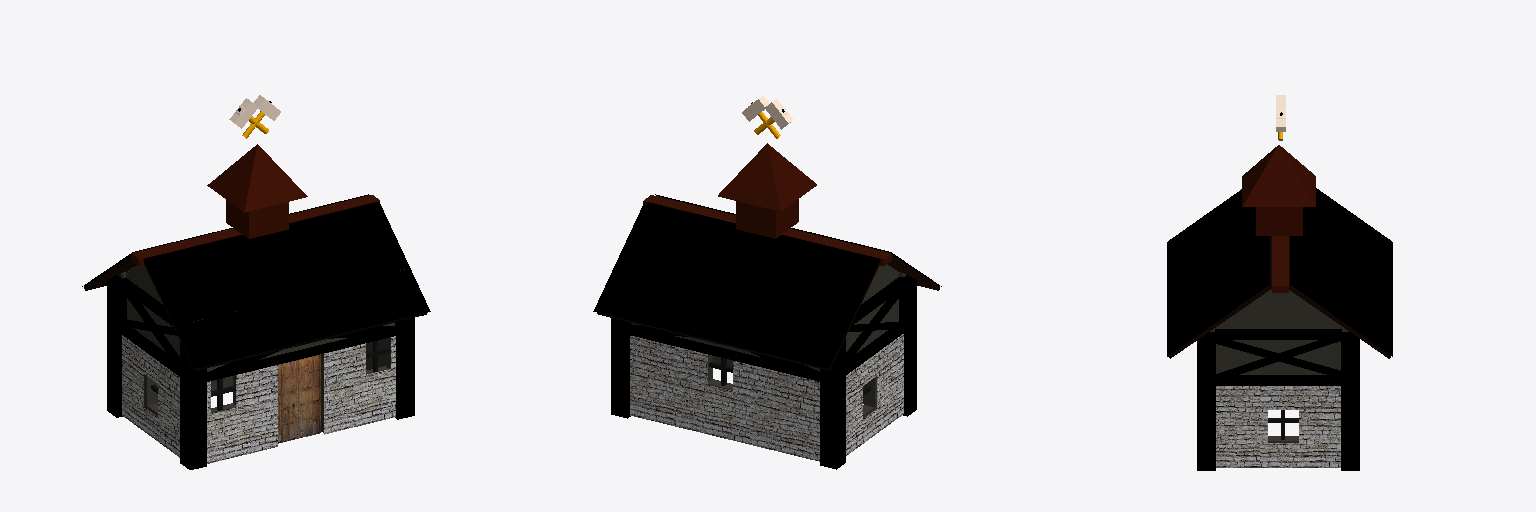
3 renders of one model, left to right at view 1: azimuth 30°, elevation 25°; view 2: azimuth 150°, elevation 25°; view 3: azimuth 270°, elevation 25°, orthographic.
Parts seen in each view (by area): view 1: polySurface15 polySurface23, pCube33, pPlane9, pPlane8, pPlane20, polySurface19, pCube22, pCube29, pPlane16, pCube24, pPlane15, pCube21 (+3 smaller); view 2: polySurface15 polySurface24, pCube33, pPlane11, pPlane13, pPlane12, pCube24, pCube29, pPlane16, polySurface19, pCube22, pPlane15, pCube23 (+3 smaller); view 3: polySurface15 polySurface24, polySurface15 polySurface23, pPlane19, polySurface19, pCube33, pCube23, pCube21, pCube30 polySurface37, polySurface36 pCube30, pCube30 polySurface39, pCube30 polySurface38, polySurface15 polySurface22 (+1 smaller).
Boxes of the visible parts, x1,y1,x2,y2 form: polySurface15 polySurface23: [143, 202, 430, 368]; pCube33: [131, 144, 379, 265]; pPlane9: [324, 336, 395, 434]; pPlane8: [207, 365, 277, 463]; pPlane20: [278, 354, 320, 443]; polySurface19: [119, 265, 404, 432]; pCube22: [180, 341, 206, 469]; pCube29: [112, 275, 179, 376]; pPlane16: [145, 353, 179, 457]; pCube24: [107, 279, 126, 417]; pPlane15: [122, 335, 158, 441]; pCube21: [395, 318, 414, 419]; polySurface15 polySurface24: [593, 202, 880, 368]; pCube33: [643, 143, 891, 265]; pPlane11: [750, 365, 819, 461]; pPlane13: [674, 346, 757, 444]; pPlane12: [630, 336, 701, 430]; pCube24: [820, 338, 845, 469]; pCube29: [846, 275, 912, 374]; pPlane16: [863, 334, 903, 443]; polySurface19: [631, 264, 905, 418]; pCube22: [899, 279, 916, 416]; pPlane15: [846, 350, 882, 455]; pCube23: [611, 318, 630, 418]; polySurface15 polySurface24: [1290, 188, 1392, 356]; polySurface15 polySurface23: [1167, 189, 1269, 356]; pPlane19: [1216, 386, 1340, 467]; polySurface19: [1210, 289, 1348, 442]; pCube33: [1242, 145, 1315, 292]; pCube23: [1341, 336, 1359, 470]; pCube21: [1197, 337, 1215, 470]; pCube30 polySurface37: [1203, 329, 1354, 339]; polySurface36 pCube30: [1216, 375, 1340, 385]; pCube30 polySurface39: [1216, 340, 1340, 377]; pCube30 polySurface38: [1216, 340, 1340, 377]; polySurface15 polySurface22: [1168, 236, 1271, 358].
Size of the model in its own units: 14.41 by 18.05 by 11.68.
14 materials, 3 textured.